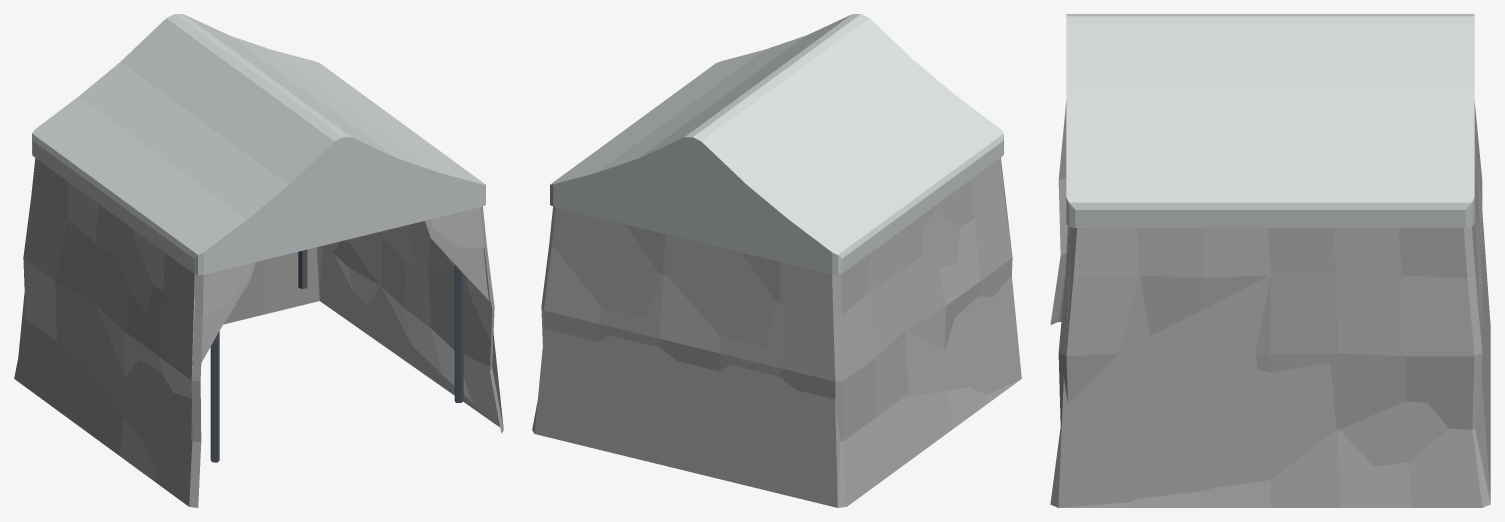
Rendered from rowtentfrontopen.fbx.
The picture shows the model from 3 angles, left to right: view 1: azimuth 30°, elevation 25°; view 2: azimuth 150°, elevation 25°; view 3: azimuth 270°, elevation 25°; orthographic projection. The views are drawn at different scales.
Parts seen in each view (by area): view 1: 立方体.001, 立方体, 円柱; view 2: 立方体.001, 立方体; view 3: 立方体.001, 立方体.
Part boxes in pixels (x1=…): 立方体.001: x1=14, y1=158, x2=503, y2=507; 立方体: x1=32, y1=14, x2=485, y2=274; 円柱: x1=210, y1=249, x2=463, y2=462; 立方体.001: x1=532, y1=158, x2=1021, y2=507; 立方体: x1=550, y1=14, x2=1003, y2=274; 立方体.001: x1=1050, y1=101, x2=1490, y2=507; 立方体: x1=1066, y1=14, x2=1474, y2=227.
Bounding box in the file's own units: 216 × 215 × 216.
